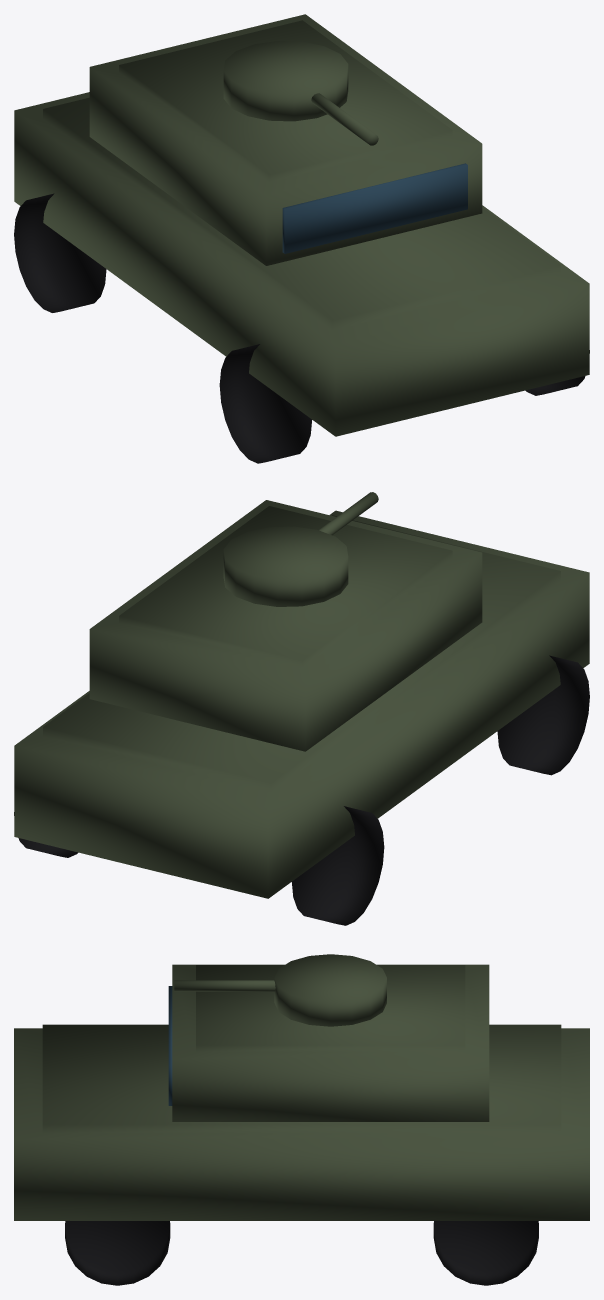
Rendered from armored_vehicle.fbx.
The picture shows the model from 3 angles, top to bottom: view 1: azimuth 30°, elevation 25°; view 2: azimuth 150°, elevation 25°; view 3: azimuth 270°, elevation 25°; orthographic projection. The views are drawn at different scales.
Parts seen in each view (by area): view 1: ArmoredVehicle; view 2: ArmoredVehicle; view 3: ArmoredVehicle.
Part boxes in pixels (x1=…): ArmoredVehicle: x1=14, y1=14, x2=589, y2=463; ArmoredVehicle: x1=14, y1=492, x2=589, y2=925; ArmoredVehicle: x1=14, y1=954, x2=589, y2=1285.
Bounding box in the file's own units: 2.58 × 2.11 × 4.6.
